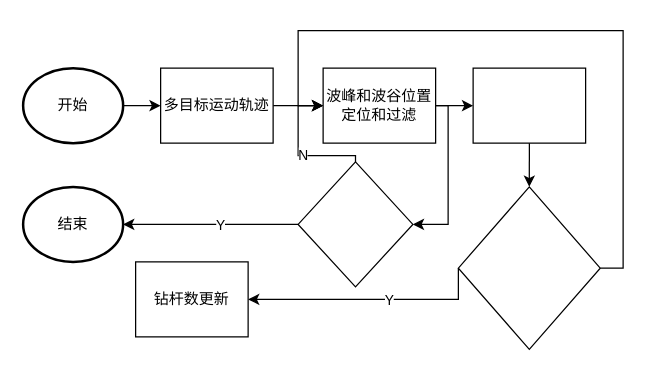
This 655x371 diagram has some shape labels left out. Each missing label, with the centre of its shape:
"峰值阈值和时间间隔阈值是否满足？" goes at point (528, 267).
"是否完成所有数据分析?" goes at point (355, 224).
"目标轨迹分析" goes at point (529, 105).
